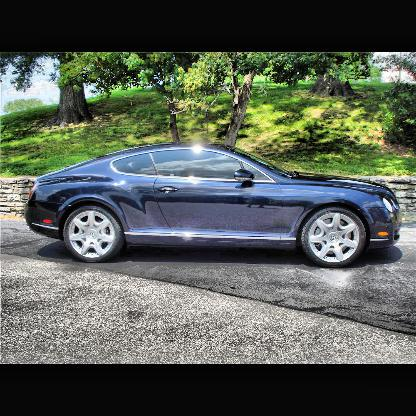Bentley Continental GT Coupe 2007: (27, 146, 404, 268)
